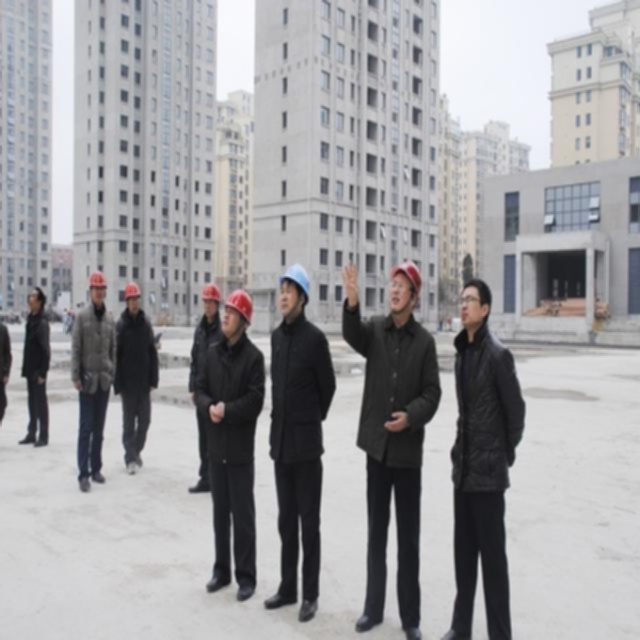Con_Casco: (279, 263, 311, 318)
Sin_Casco_Mascarrilla: (459, 279, 493, 329)
Sin_Chaleco: (451, 331, 513, 483), (269, 320, 328, 457)
